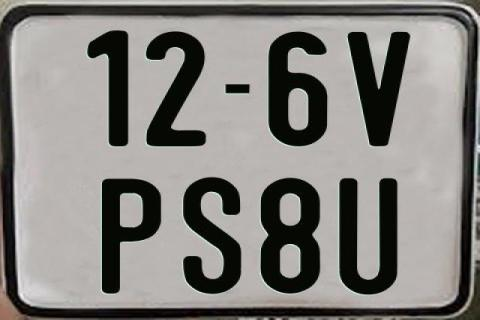0: (146, 31, 212, 151), (266, 30, 329, 148), (257, 175, 320, 293), (86, 30, 129, 146)
P: (101, 177, 161, 292)
S: (180, 174, 244, 292)
U: (337, 176, 398, 295)
V: (346, 30, 410, 146)
